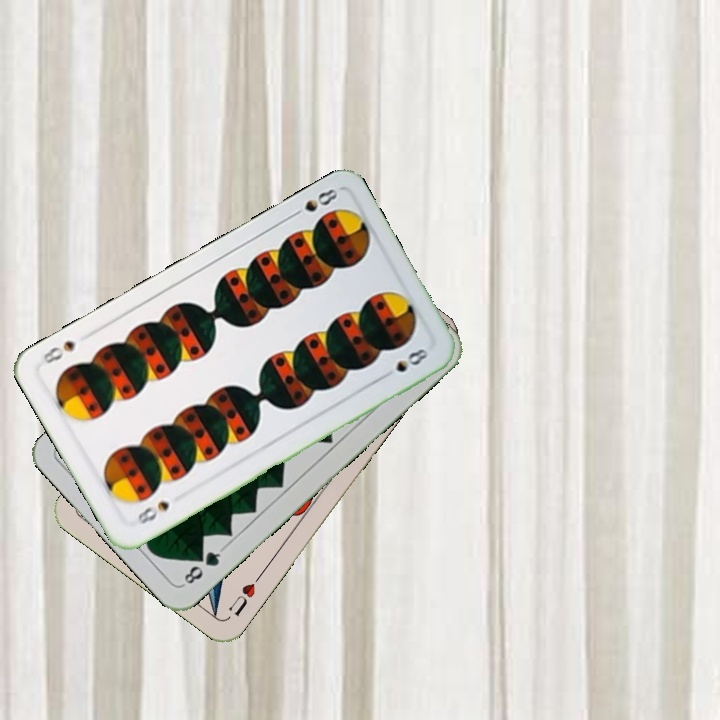G8: (178, 543, 226, 588)
HU: (224, 569, 265, 619)
S8: (286, 184, 341, 221), (133, 497, 172, 527)
